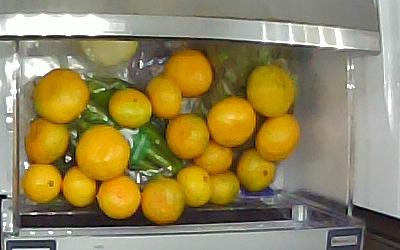tangerine: (32, 66, 89, 124), (75, 124, 130, 183), (247, 65, 296, 118), (208, 96, 257, 147), (255, 114, 302, 163), (164, 50, 212, 96), (141, 178, 184, 223), (26, 118, 68, 164), (165, 115, 208, 159), (97, 176, 141, 219), (108, 89, 153, 128), (236, 150, 278, 191), (22, 162, 61, 205), (147, 76, 184, 120), (62, 167, 98, 208), (177, 166, 211, 207), (195, 142, 232, 173), (208, 171, 240, 205)
